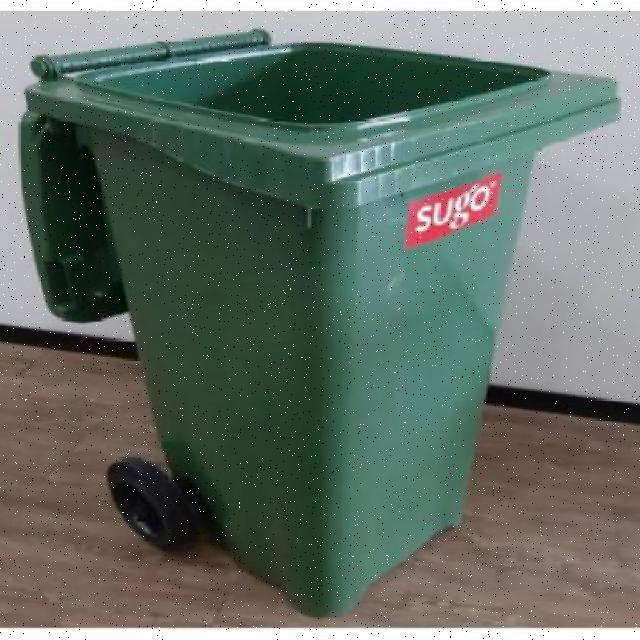garbage container: (6, 27, 632, 638)
